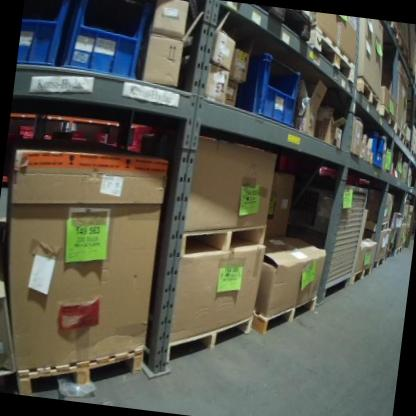pallet: (12, 328, 146, 407), (167, 304, 255, 374), (179, 208, 268, 269), (303, 24, 363, 88), (254, 285, 318, 344), (232, 2, 312, 47), (351, 81, 387, 118), (349, 258, 373, 288), (363, 217, 389, 236), (383, 108, 399, 134), (370, 251, 386, 273), (394, 123, 407, 145), (383, 243, 395, 262), (393, 243, 403, 258), (403, 136, 411, 154), (407, 144, 416, 159)
small_load_carrier: (65, 0, 157, 87), (229, 49, 309, 131), (18, 0, 74, 70), (365, 129, 391, 171)
stillage: (274, 172, 369, 308)
